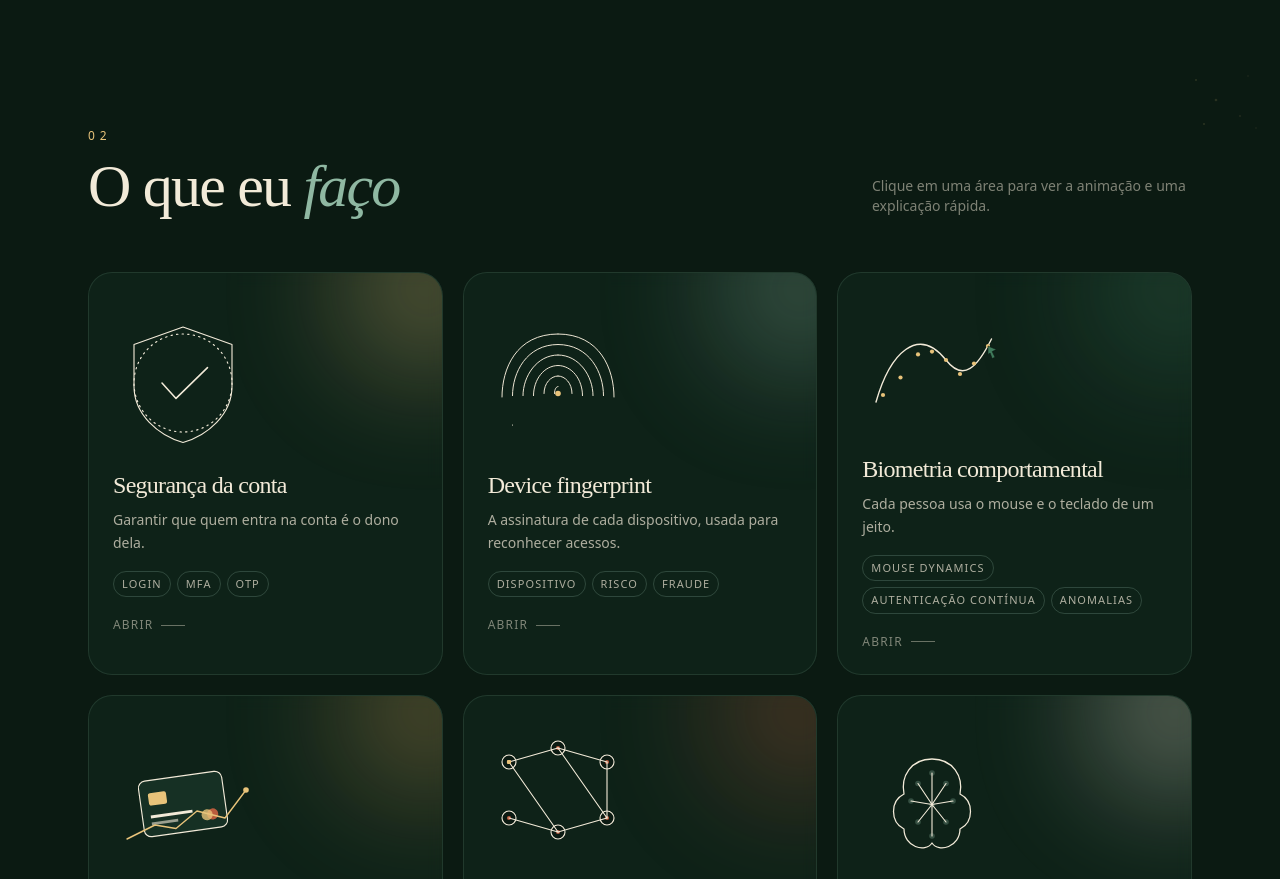
it: Expertise › abre a explicação de "Device fingerprint"
Click the button "Device fingerprint": coordinates (640, 473) [463,272,817,674]
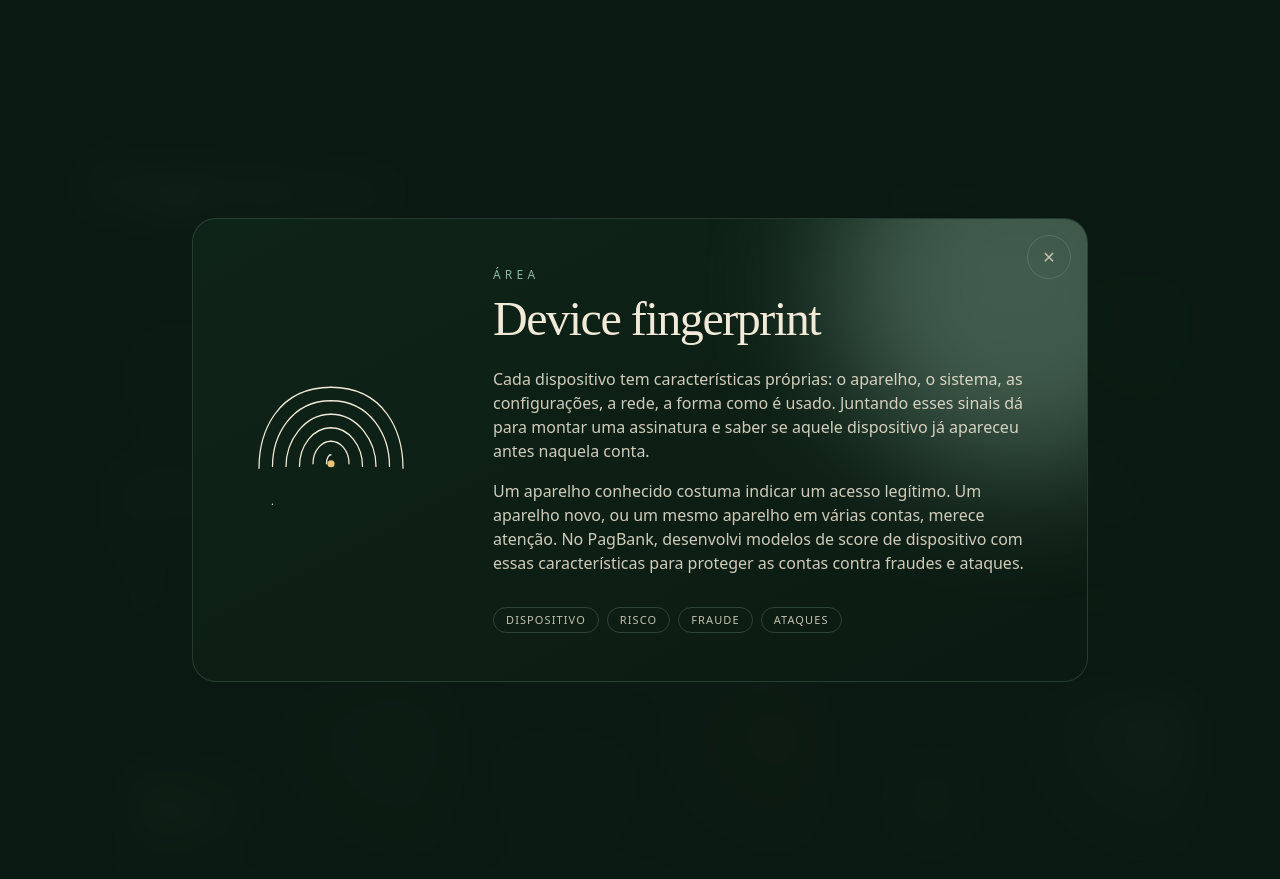
Now the text "Cada dispositivo tem características próprias: o aparelho, o sistema, as configurações, a rede, a forma como é usado. Ju" is shown, box [493,368,1023,462]
